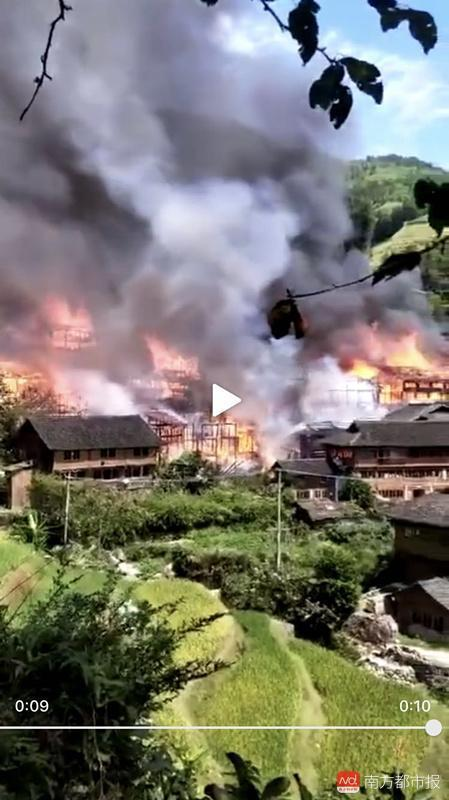fire: (327, 327, 437, 413), (205, 414, 291, 476), (25, 291, 96, 346), (137, 338, 206, 378), (4, 350, 44, 406)
